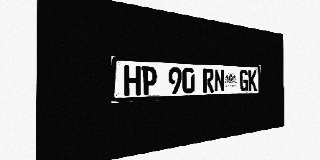0: (182, 68, 195, 94)
9: (168, 67, 182, 94)
G: (240, 70, 248, 91)
H: (124, 65, 141, 96)
K: (248, 70, 257, 91)
N: (214, 69, 224, 92)
P: (141, 66, 157, 95)
R: (203, 68, 214, 93)
